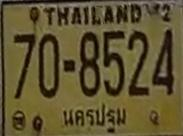0: (38, 34, 59, 98)
2: (127, 30, 150, 96)
4: (151, 28, 173, 94)
5: (102, 31, 125, 97)
7: (13, 33, 35, 97)
8: (79, 32, 99, 96)
NPT: (59, 102, 129, 135)
